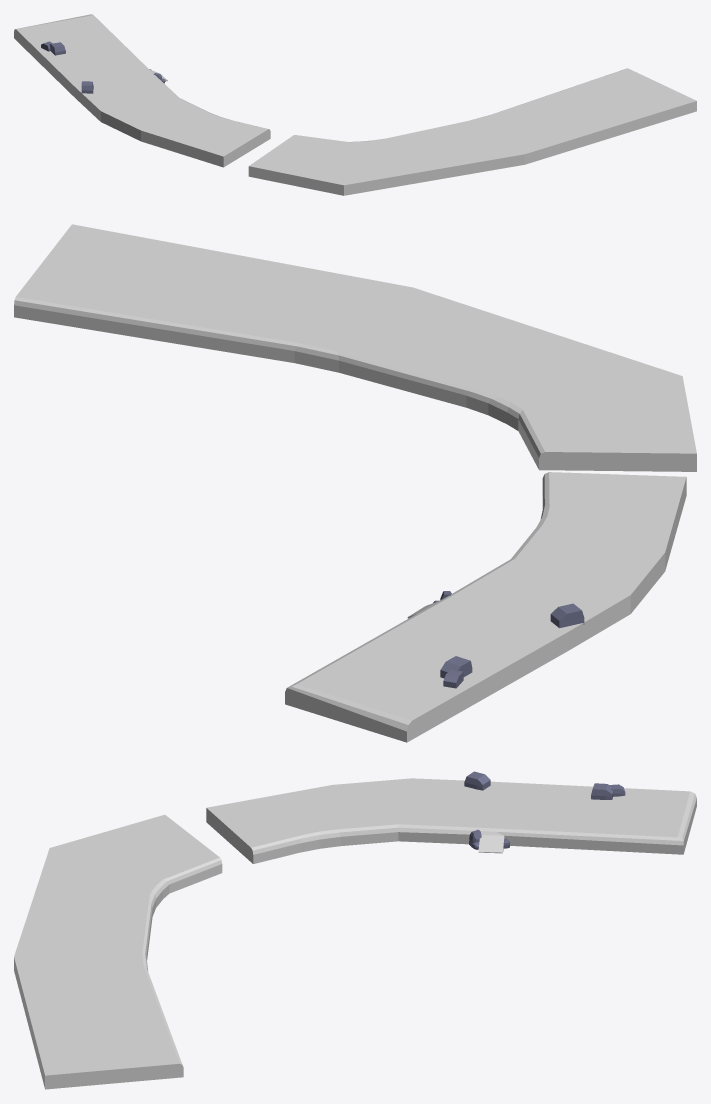
The model's file is plateau.glb.
The picture shows the model from 3 angles, top to bottom: view 1: azimuth 30°, elevation 25°; view 2: azimuth 150°, elevation 25°; view 3: azimuth 270°, elevation 25°; orthographic projection. The views are drawn at different scales.
Parts seen in each view (by area): view 1: Cube.001, Cube; view 2: Cube.001, Cube; view 3: Cube.001, Cube.
Boxes of the visible parts, left/top/right/bottom form: Cube.001: left=248, top=68, right=696, bottom=195; Cube: left=14, top=14, right=270, bottom=167; Cube.001: left=14, top=224, right=696, bottom=471; Cube: left=285, top=472, right=686, bottom=742; Cube.001: left=14, top=814, right=222, bottom=1089; Cube: left=206, top=778, right=696, bottom=863.
Bounding box in the file's own units: 239 × 9.56 × 232.
